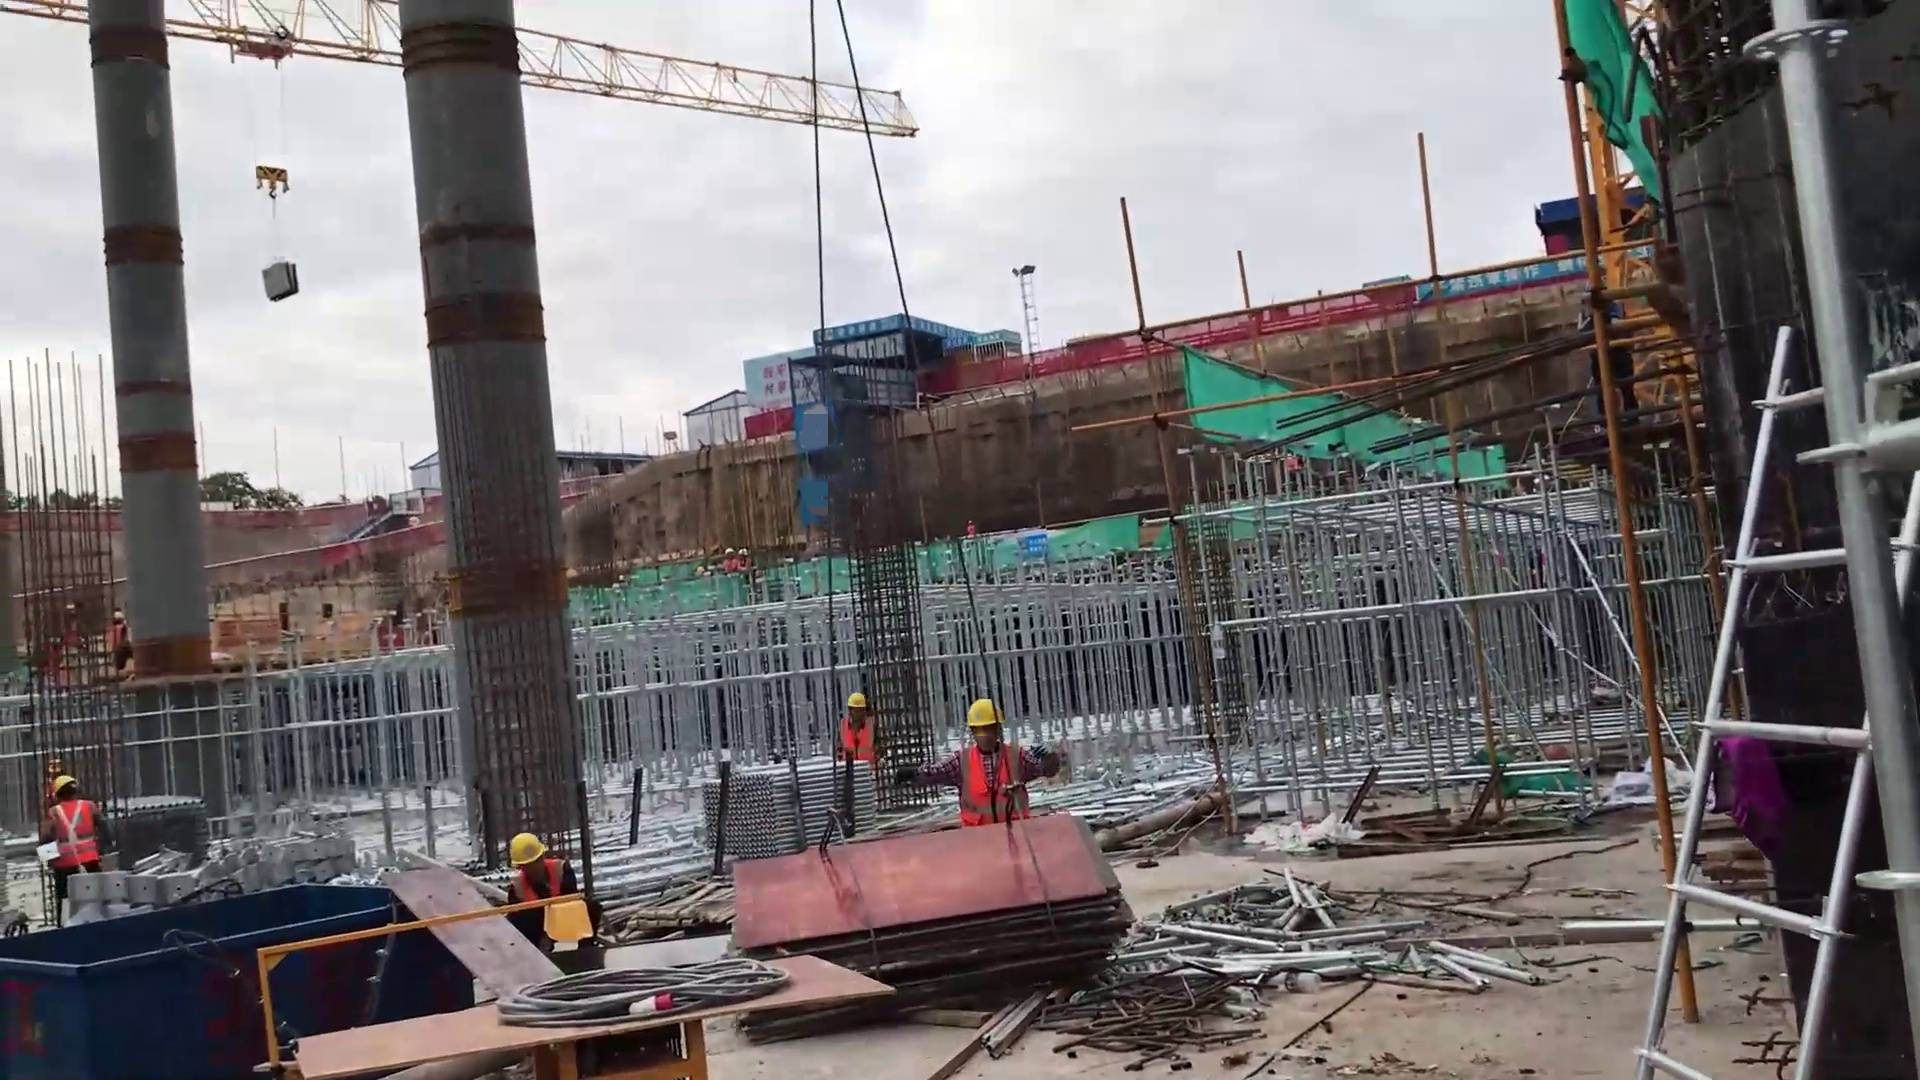board: (690, 827, 1138, 1008)
helmet: (505, 822, 550, 869), (960, 687, 1001, 734), (840, 690, 875, 713)
hopper: (3, 878, 483, 1070)
person: (892, 696, 1071, 831), (40, 775, 109, 885), (498, 832, 576, 925), (830, 689, 880, 778)
scaffold: (678, 752, 883, 857), (101, 787, 213, 863)
vest: (956, 740, 1027, 824), (833, 711, 885, 775)
